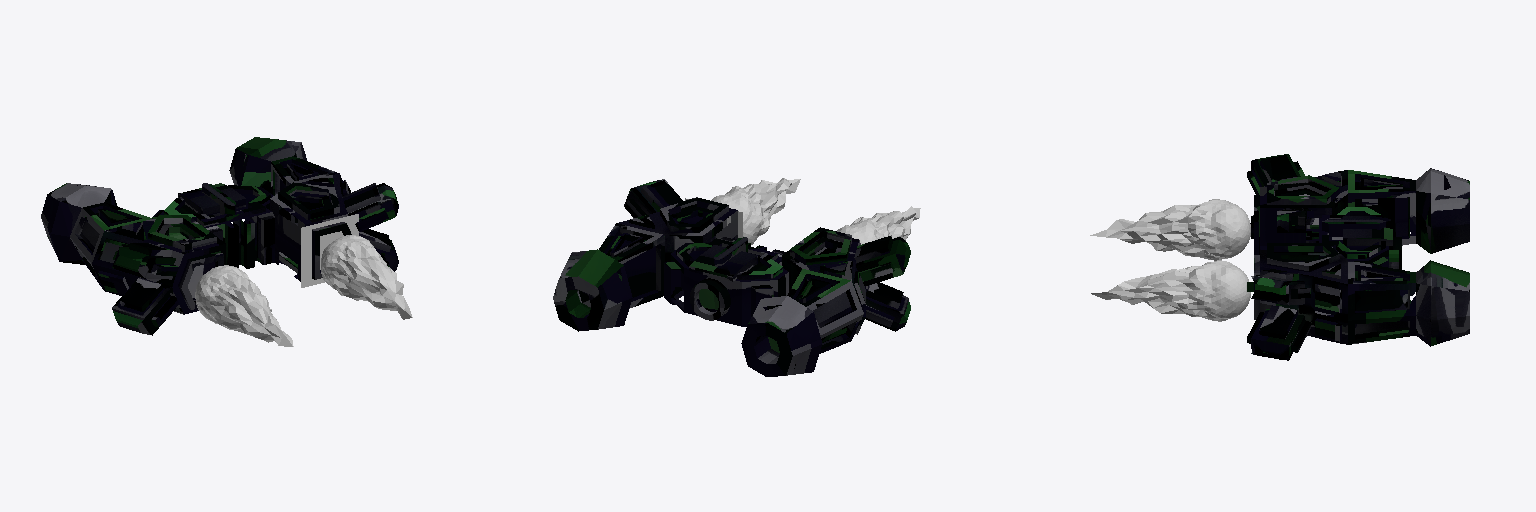
3 views of the same model, side by side, from view 1: azimuth 30°, elevation 25°; view 2: azimuth 150°, elevation 25°; view 3: azimuth 270°, elevation 25° (orthographic).
Parts seen in each view (by area): view 1: Spaceship_Spaceship-mesh, EmberEmitter-right_EmberEmitter-mesh.001; view 2: Spaceship_Spaceship-mesh; view 3: Spaceship_Spaceship-mesh.
Part boxes in pixels (bbox=[...]): Spaceship_Spaceship-mesh: bbox=[41, 137, 412, 346]; EmberEmitter-right_EmberEmitter-mesh.001: bbox=[301, 214, 358, 287]; Spaceship_Spaceship-mesh: bbox=[553, 178, 920, 376]; Spaceship_Spaceship-mesh: bbox=[1090, 154, 1469, 360].
Bounding box in the file's own units: 9.66 × 2.71 × 11.38.
6 materials, 1 textured.